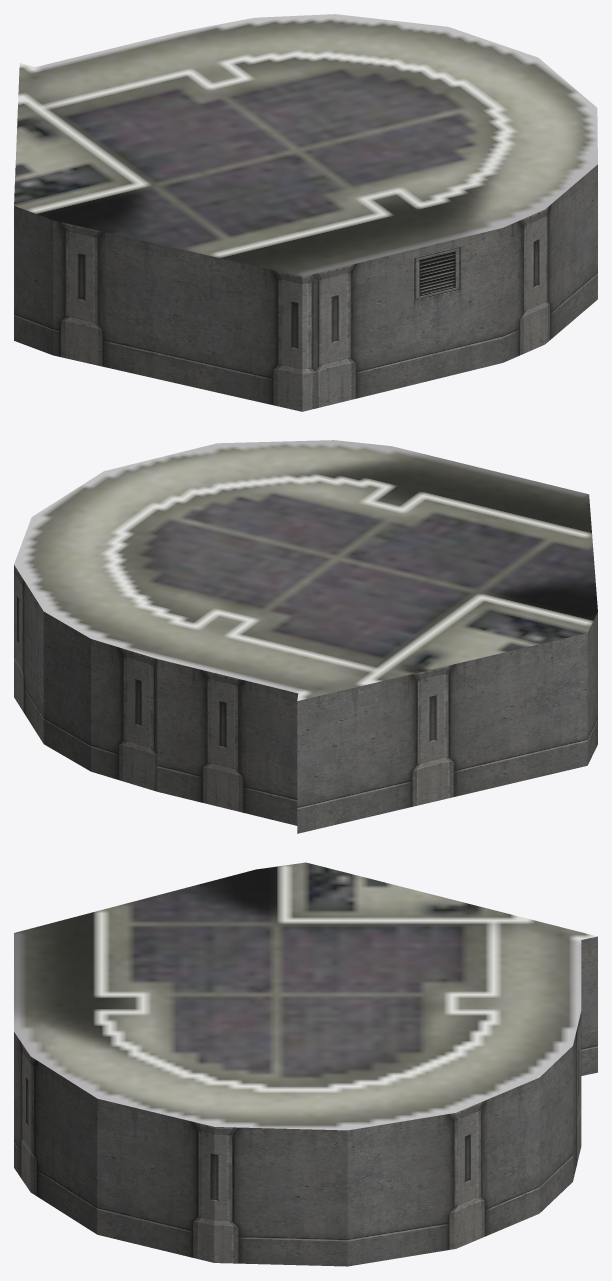
Rendered from BuildingSystem-03-Advance-04-ReinforcedLow-X-110-06.glb.
The picture shows the model from 3 angles, top to bottom: view 1: azimuth 30°, elevation 25°; view 2: azimuth 150°, elevation 25°; view 3: azimuth 270°, elevation 25°; orthographic projection. The views are drawn at different scales.
Parts seen in each view (by area): view 1: buildings/saxarba/SMV_Buildings/BuildingSystem-03-Advance-04; view 2: buildings/saxarba/SMV_Buildings/BuildingSystem-03-Advance-04; view 3: buildings/saxarba/SMV_Buildings/BuildingSystem-03-Advance-04.
Part boxes in pixels (left/top/right/bottom): buildings/saxarba/SMV_Buildings/BuildingSystem-03-Advance-04: left=14, top=14, right=597, bottom=411; buildings/saxarba/SMV_Buildings/BuildingSystem-03-Advance-04: left=14, top=440, right=597, bottom=833; buildings/saxarba/SMV_Buildings/BuildingSystem-03-Advance-04: left=14, top=862, right=597, bottom=1266.
Bounding box in the file's own units: 76 × 18 × 70.
